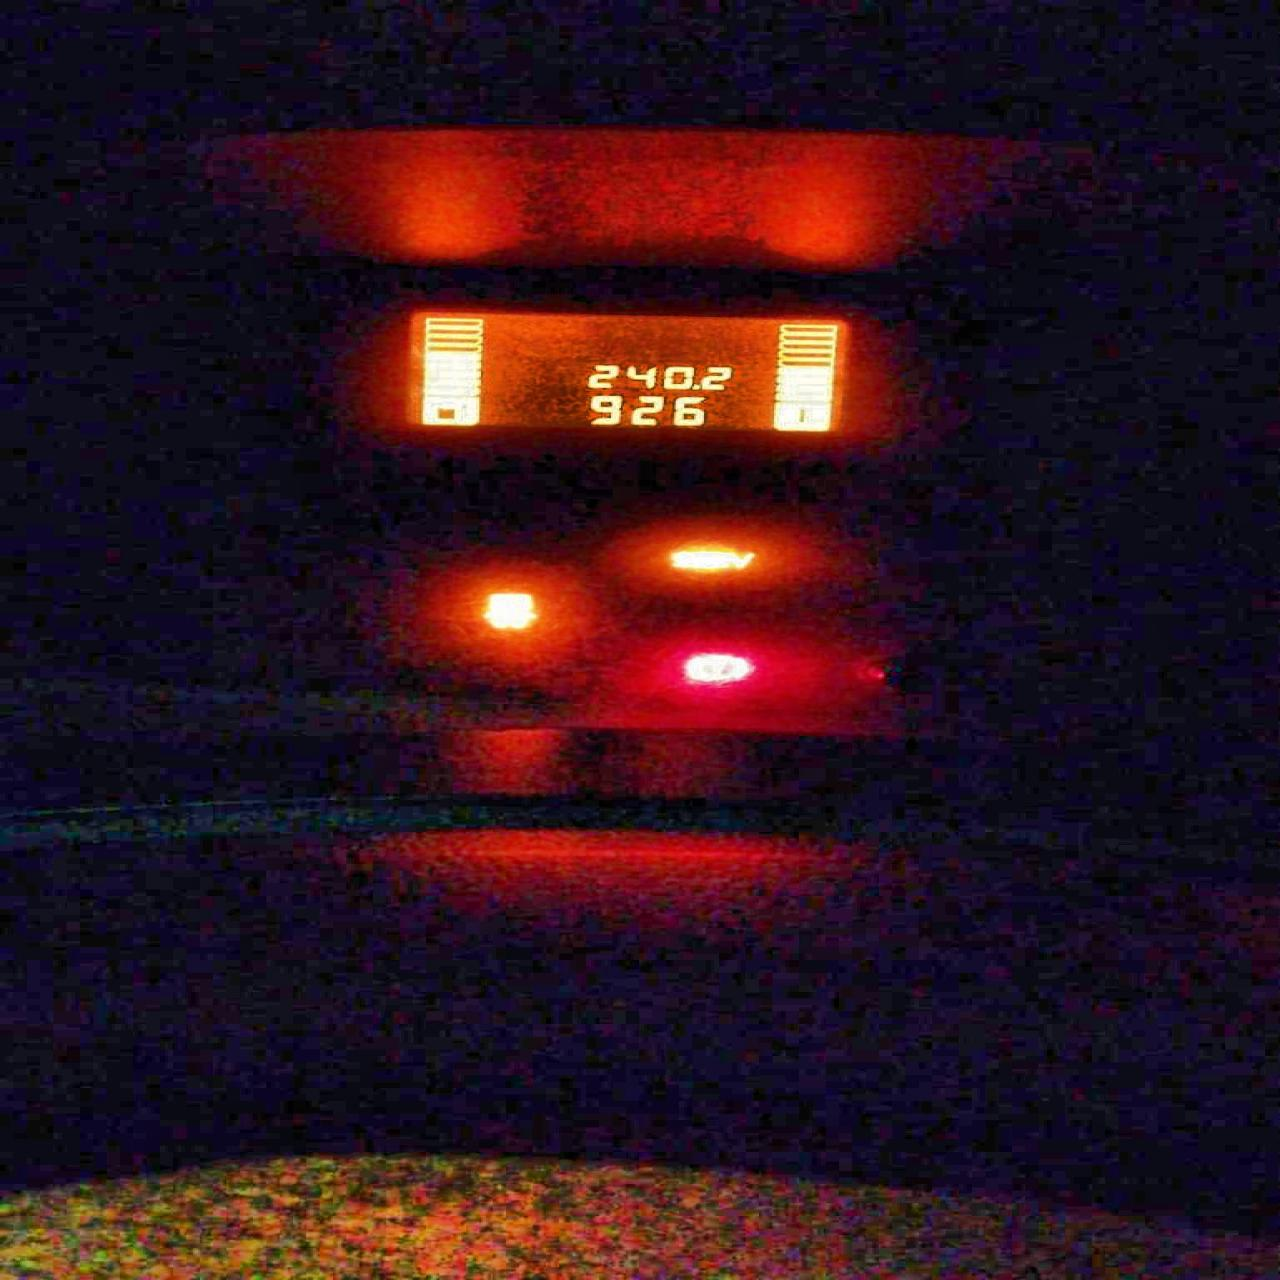-: (689, 383, 699, 390)
0: (661, 366, 694, 388)
2: (629, 395, 663, 424), (699, 366, 733, 389), (586, 365, 618, 388)
4: (625, 365, 655, 389)
6: (670, 396, 706, 427)
9: (587, 394, 622, 424)
odometer: (396, 308, 853, 434)
